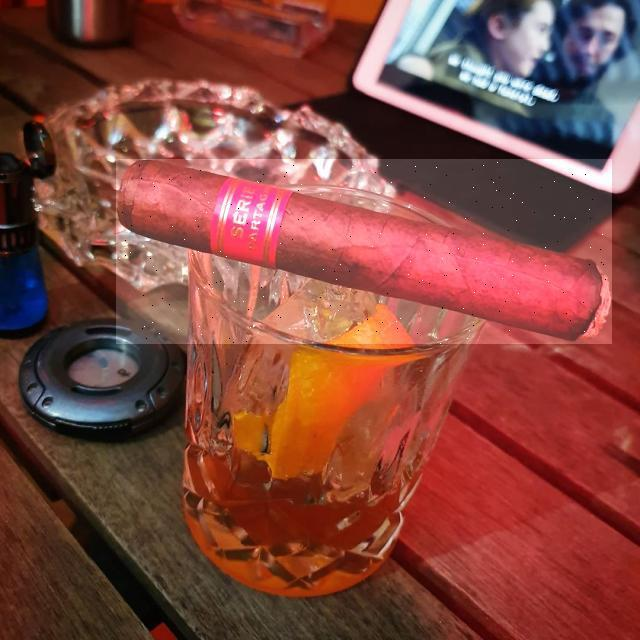smoking: (116, 159, 612, 344)
